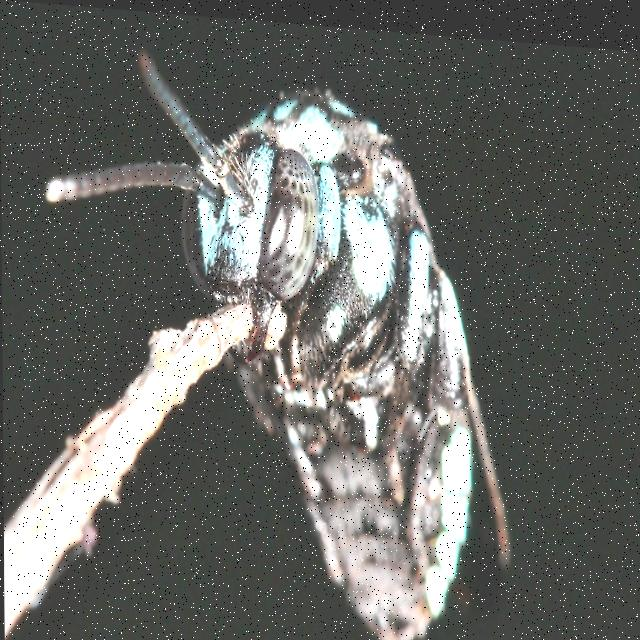Thyreus: (43, 37, 511, 640)
